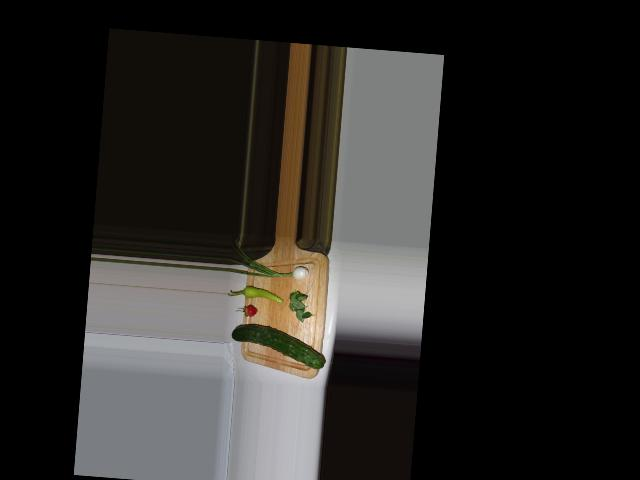cucumber: (230, 323, 327, 370)
